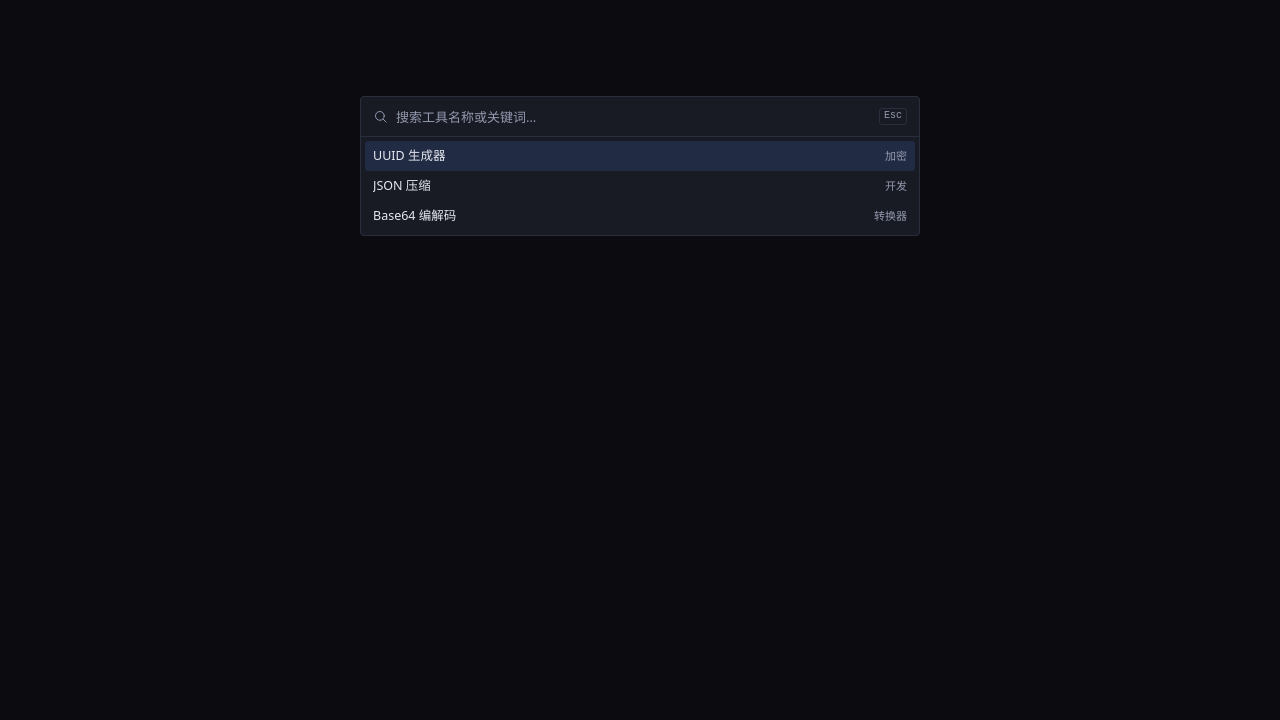
Scenario: CommandPalette › 无匹配时展示空态
The image size is (1280, 720).
Step 1. Type "zzzzzz" into the field → (634, 116), box [396,97,871,136]
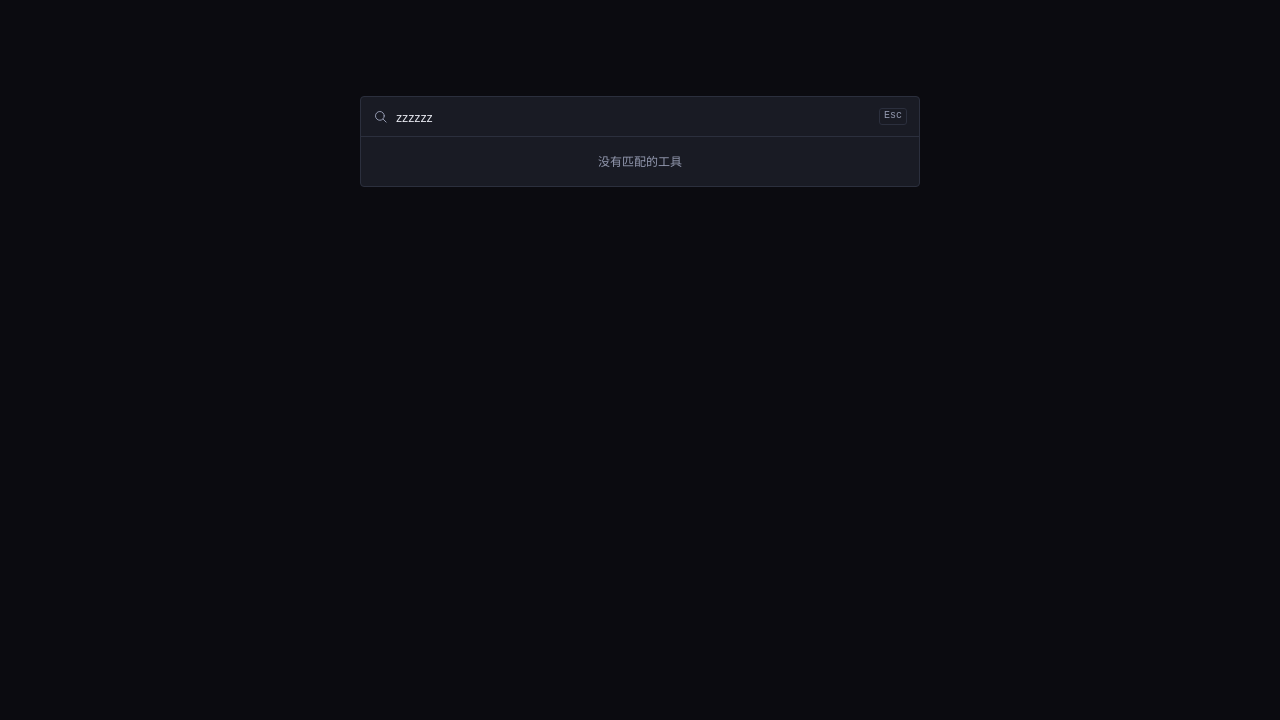
expect the text "没有匹配的工具" is shown: met, box [598,153,682,170]
expect no options are shown: met
